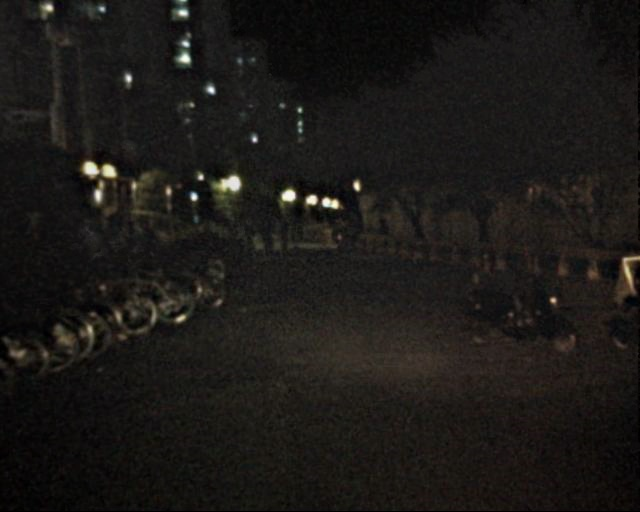person: (81, 222, 103, 276), (270, 215, 290, 264), (123, 219, 143, 267), (255, 218, 273, 262), (141, 224, 158, 266), (375, 216, 391, 254), (240, 215, 254, 248), (226, 214, 239, 246), (290, 218, 299, 245)
